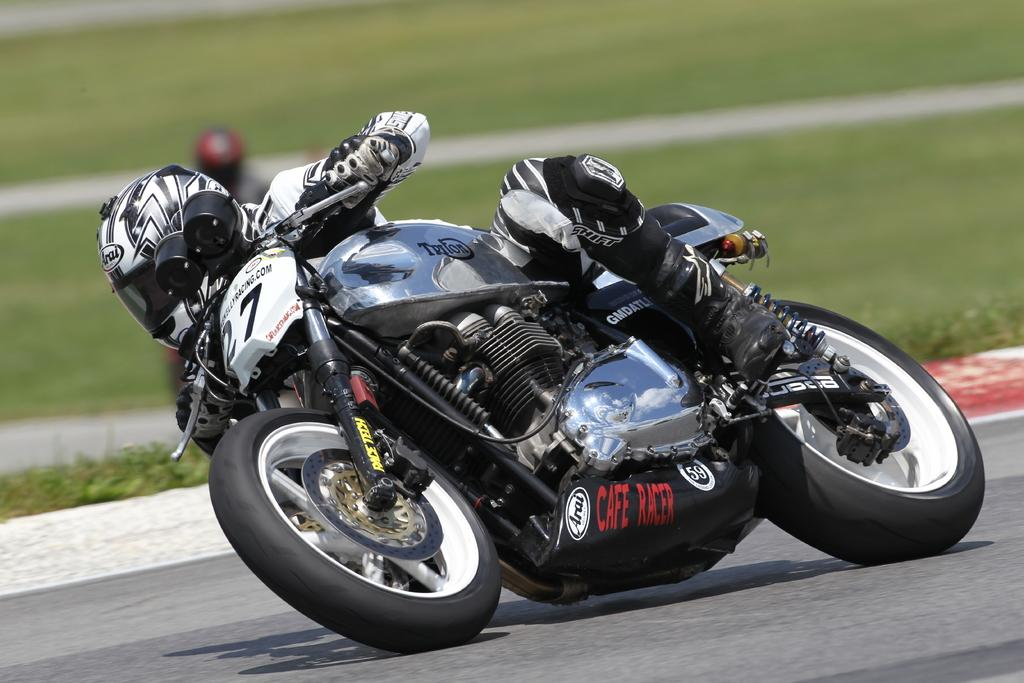helmet: (96, 164, 257, 351), (196, 128, 245, 199)
